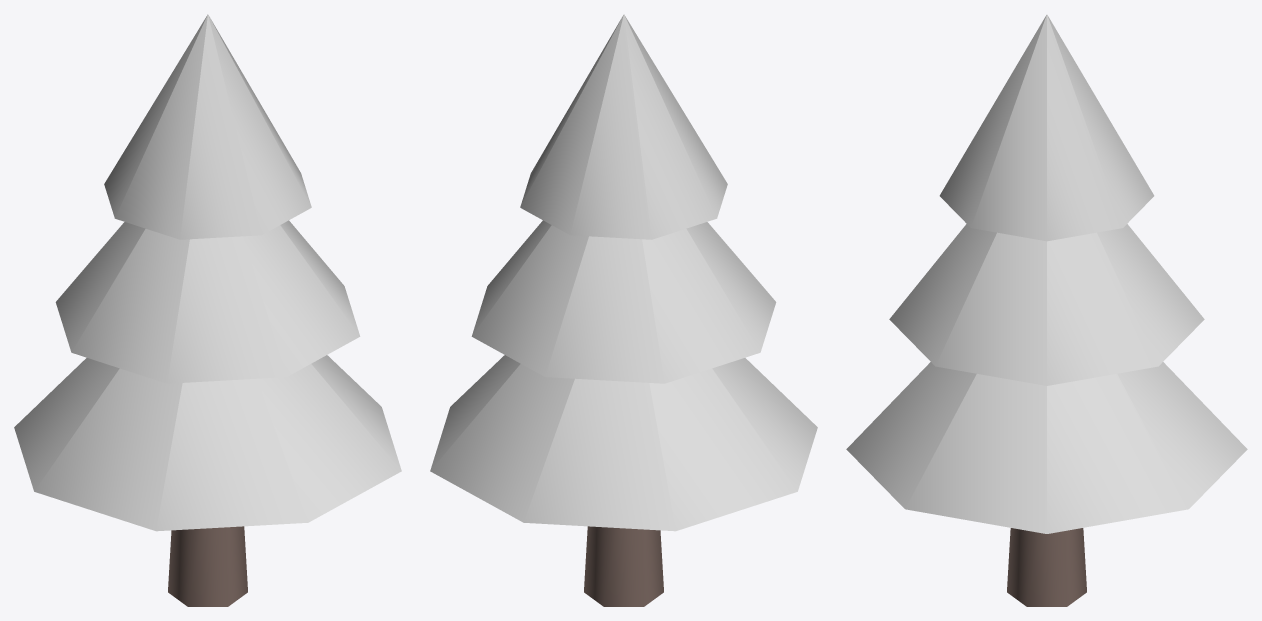
Rendered from pine_0.glb.
3 views of the same model, side by side, from view 1: azimuth 30°, elevation 25°; view 2: azimuth 150°, elevation 25°; view 3: azimuth 270°, elevation 25° (orthographic).
Visible parts, largest first — view 1: pine_0; view 2: pine_0; view 3: pine_0.
Part boxes in pixels (x1,y1,x2,y2): pine_0: [14, 14, 401, 606]; pine_0: [430, 14, 817, 606]; pine_0: [846, 14, 1247, 606].
Bounding box in the file's own units: 2.8 × 4.45 × 2.8.
